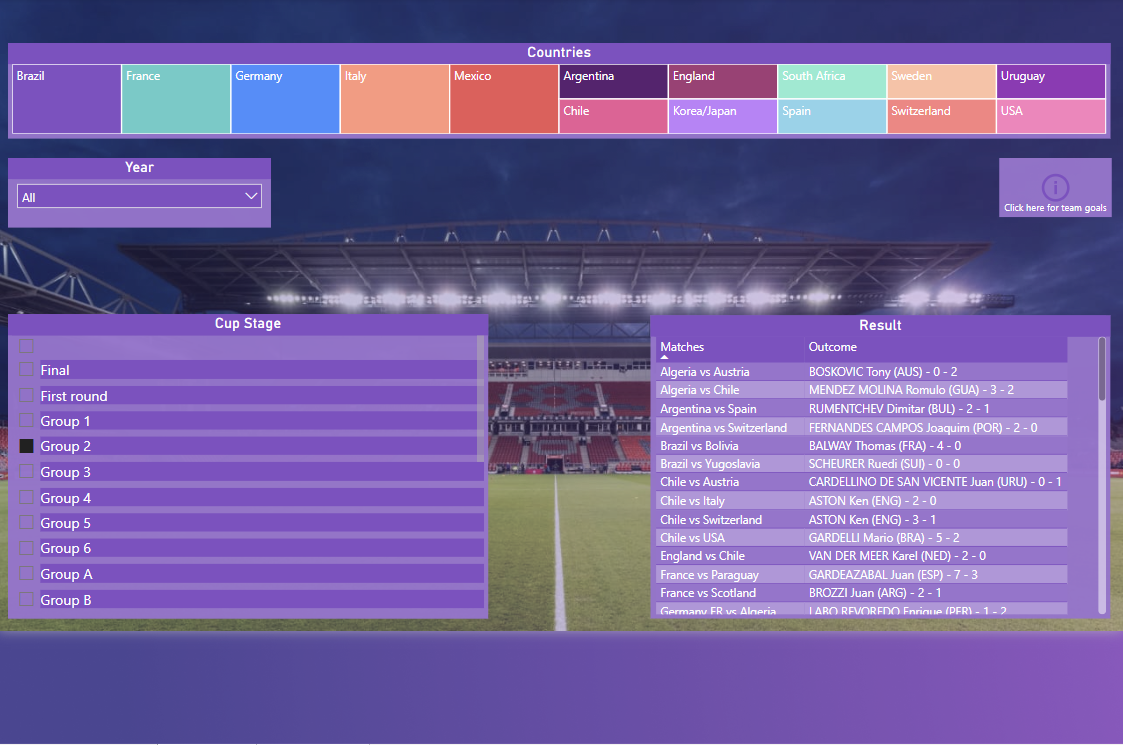

This screenshot's page, from the dashboard's own definition file:
{"tool":"powerbi","page":{"name":"Outcome","canvas":[1280,720],"ordinal":1},"visuals":[{"type":"actionButton","box":[1138.5,182.1,127.8,67.5],"z":0},{"type":"slicer","title":"Year","fields":{"Values":["WorldCupMatches.Year"]},"box":[12.1,182.1,299.1,79.6],"z":1000},{"type":"slicer","title":"Cup Stage","fields":{"Values":["WorldCupMatches.Stage"]},"box":[12.1,359.4,546.3,346.1],"z":2000},{"type":"tableEx","title":"Result","fields":{"Values":["WorldCupMatches.Matches","WorldCupMatches.Outcome"]},"box":[742.9,360.6,523.4,344.9],"z":3000},{"type":"treemap","title":"Countries","fields":{"Group":["WorldCups.Country"],"Values":["WorldCups.Winner"]},"box":[12.1,51.9,1254.3,108.5],"z":4000}]}

Visuals, with their boxes on the page's 1280x720 design canvas (x1, y1, x2, y2). These are canvas units, not pixel positions in the 1123x745 screenshot, which may show the page scaled, cropped or inside an application window:
actionButton: left=1138, top=182, right=1266, bottom=250
"Year" slicer: left=12, top=182, right=311, bottom=262
"Cup Stage" slicer: left=12, top=359, right=558, bottom=706
"Result" tableEx: left=743, top=361, right=1266, bottom=706
"Countries" treemap: left=12, top=52, right=1266, bottom=160
